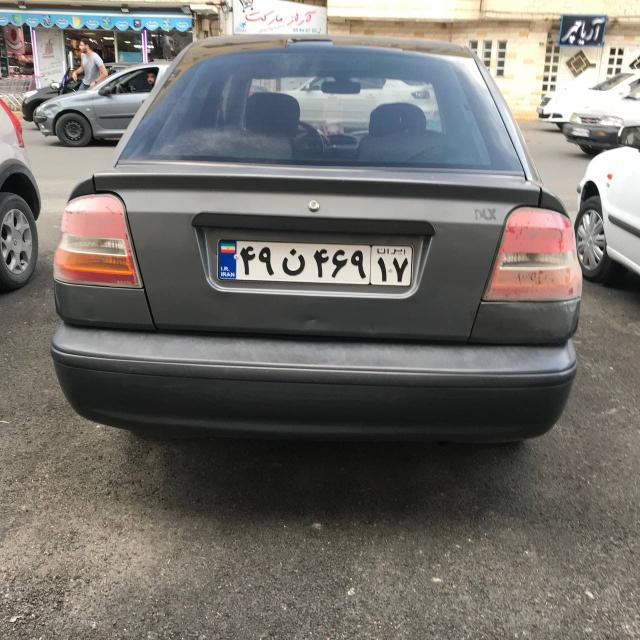Plates: (217, 239, 412, 287)
